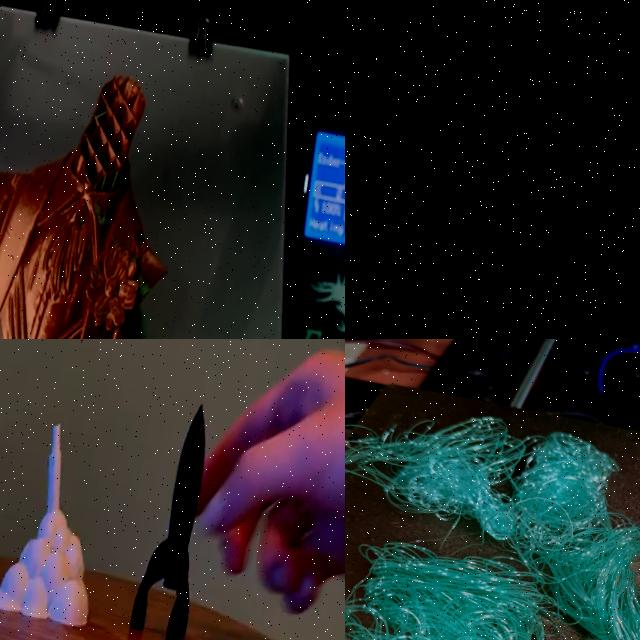spaghetti: (345, 415, 640, 640), (345, 543, 545, 640)
